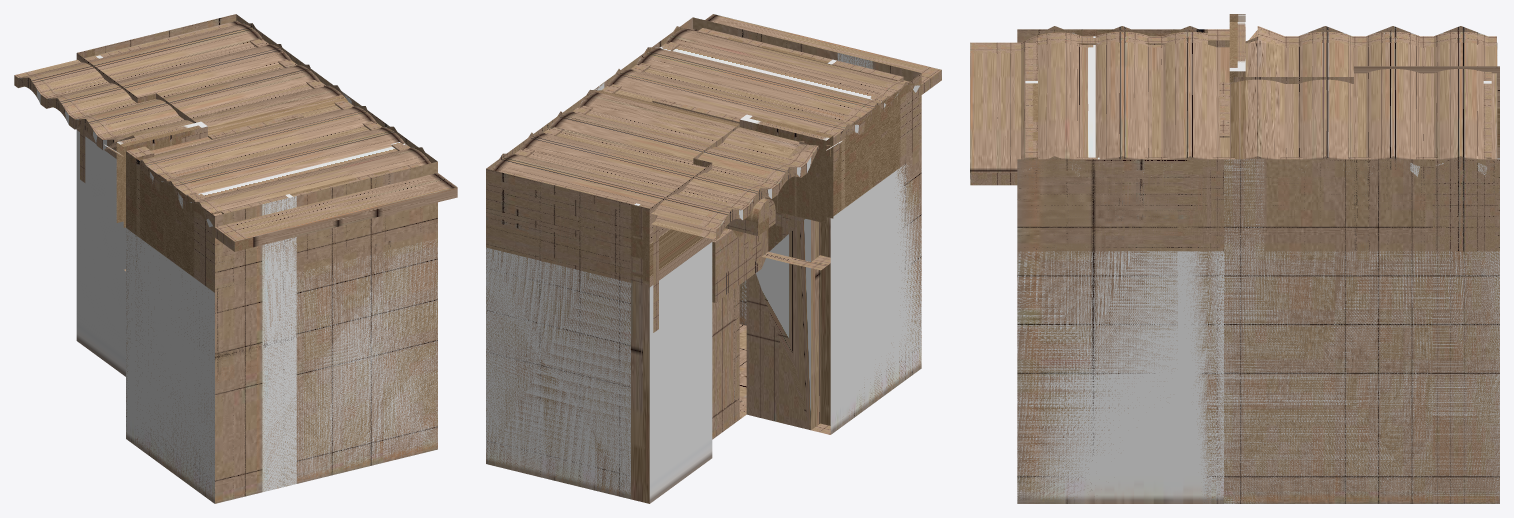
Rendered from prison.glb.
The picture shows the model from 3 angles, left to right: view 1: azimuth 30°, elevation 25°; view 2: azimuth 150°, elevation 25°; view 3: azimuth 270°, elevation 25°; orthographic projection. The views are drawn at different scales.
Parts seen in each view (by area): view 1: prison4; view 2: prison4; view 3: prison4.
Boxes of the visible parts, x1,y1,x2,y2 form: prison4: [14, 14, 457, 503]; prison4: [486, 14, 941, 503]; prison4: [970, 14, 1499, 503].
Size of the model in its own units: 77.82 by 91.46 by 125.
17 materials, 16 textured.
